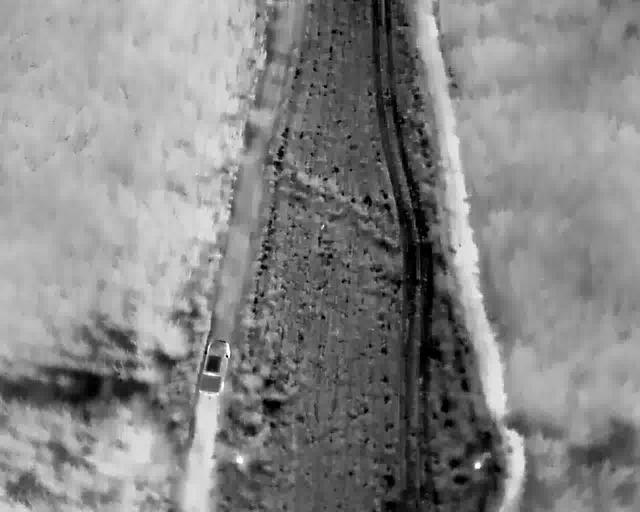car: (198, 340, 230, 395)
